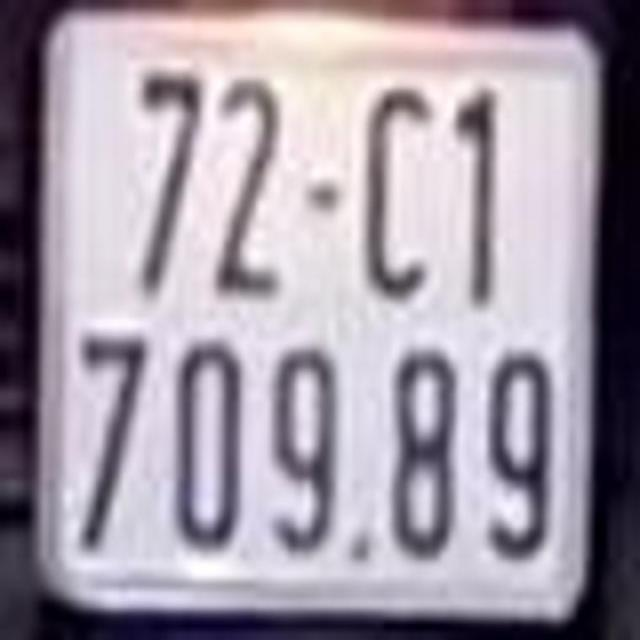0: (175, 338, 244, 549)
1: (451, 82, 502, 312)
2: (209, 74, 284, 296)
7: (80, 327, 146, 556), (135, 71, 193, 294)
8: (393, 348, 458, 564)
9: (484, 348, 558, 559), (274, 346, 338, 546)
C: (366, 82, 438, 308)
